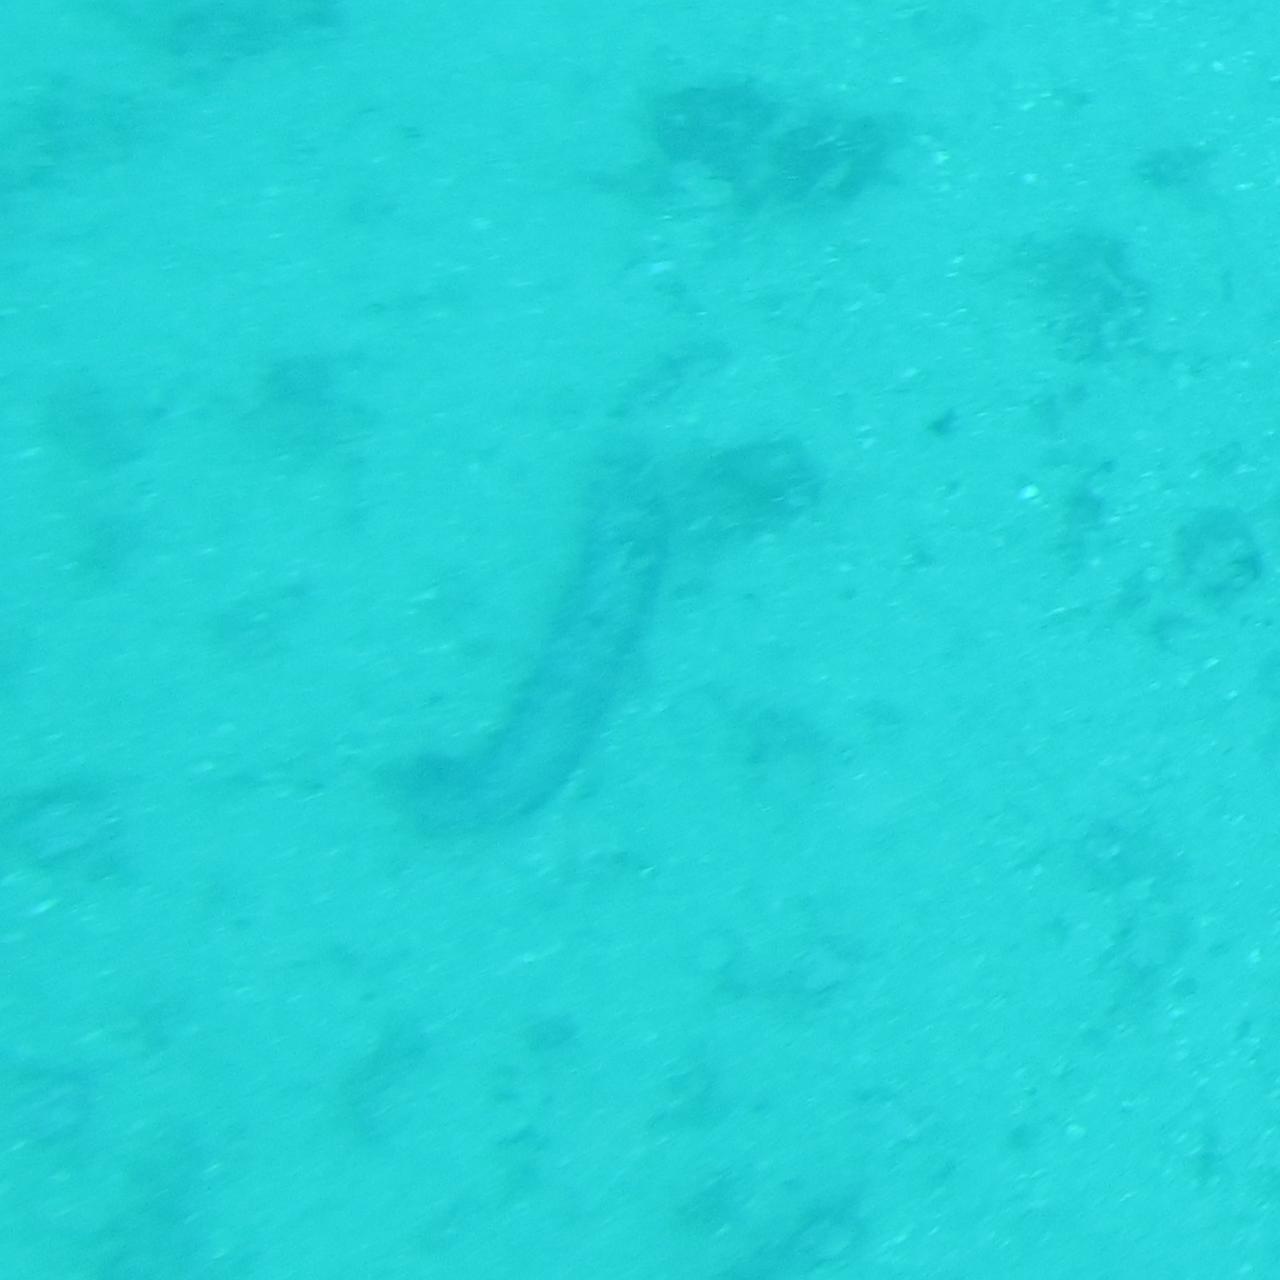Holothuria tubulosa: (392, 430, 704, 850)
